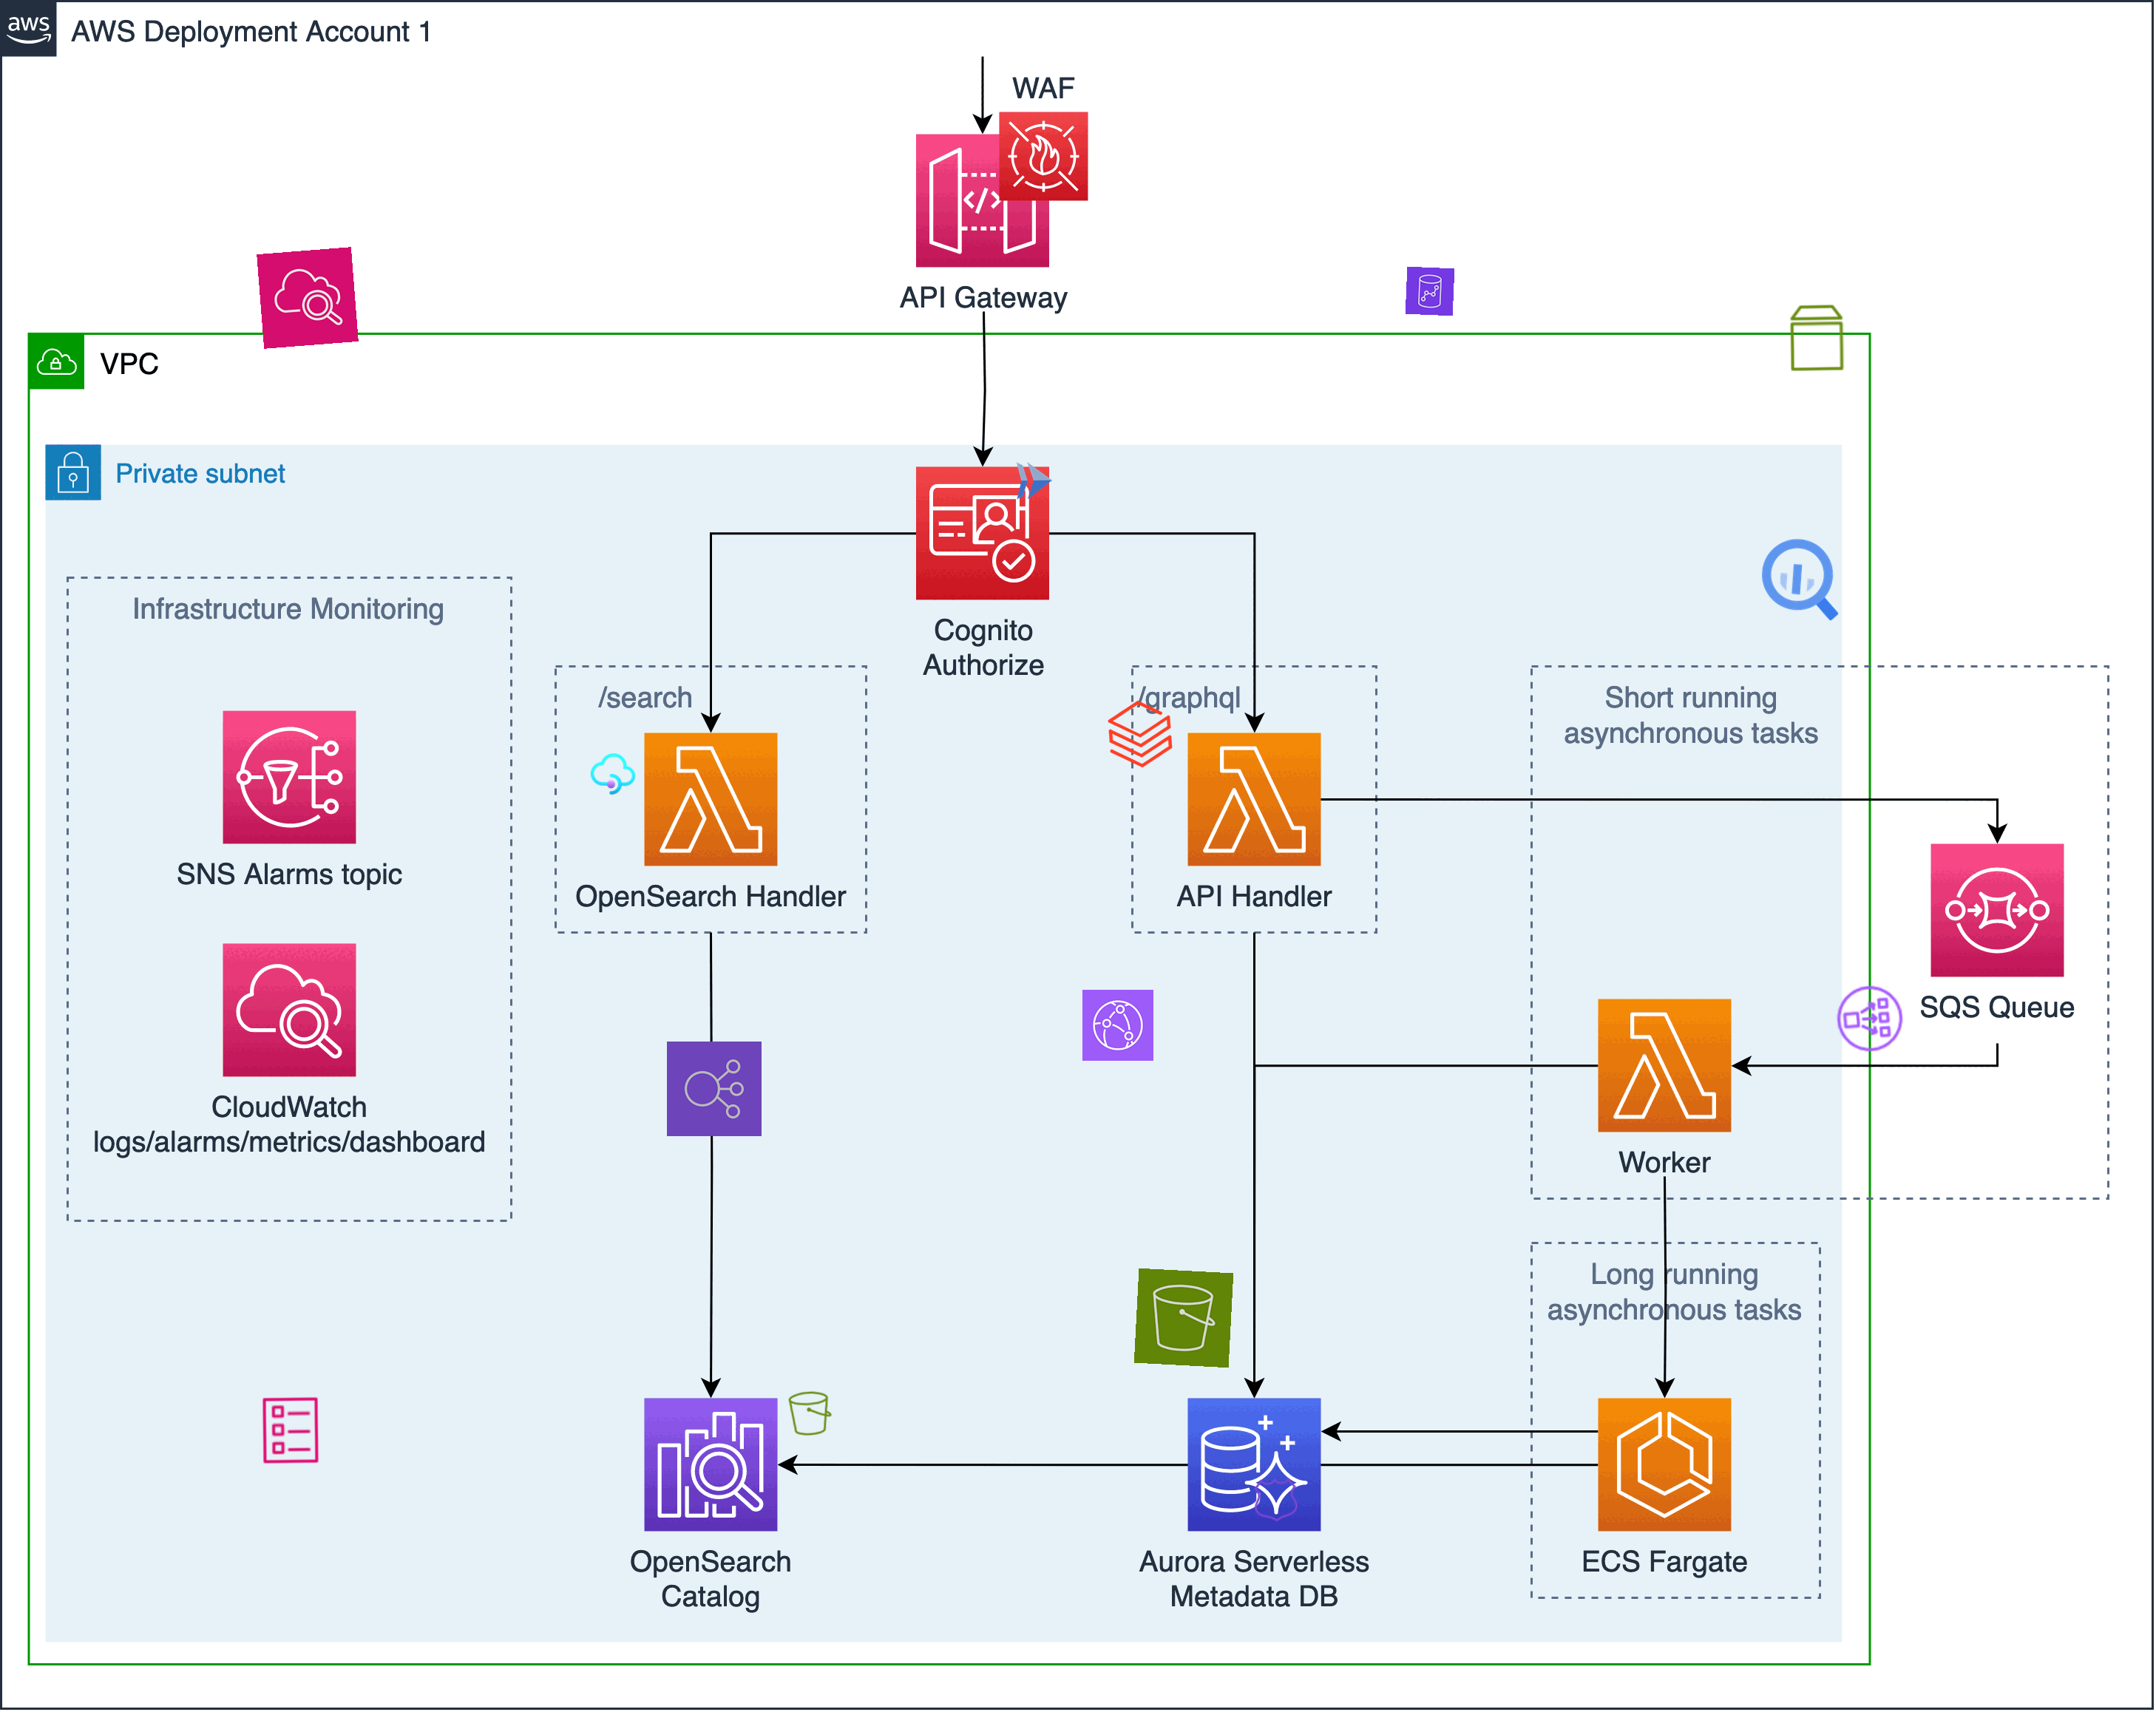aws_amazon_cloudfront: (1081, 990, 1155, 1061)
aws_amazon_cloudwatch: (257, 247, 359, 350)
aws_amazon_redshift: (1405, 266, 1454, 317)
aws_amazon_simple_storage_service: (1134, 1268, 1234, 1368)
aws_cloudformation_template: (254, 1394, 325, 1467)
aws_elastic_block_store_volume: (1782, 301, 1853, 374)
aws_elastic_load_balancing: (667, 1040, 763, 1137)
aws_elastic_load_balancing_network_load_balancer: (1832, 981, 1908, 1056)
aws_route_53_hosted_zone: (1251, 1474, 1302, 1525)
aws_simple_storage_service_bucket: (786, 1388, 835, 1439)
azure_api_management_services: (588, 750, 637, 799)
azure_databricks: (1102, 696, 1178, 773)
gcp_bigquery: (1750, 528, 1852, 630)
gcp_cloud_run: (1010, 456, 1059, 505)
